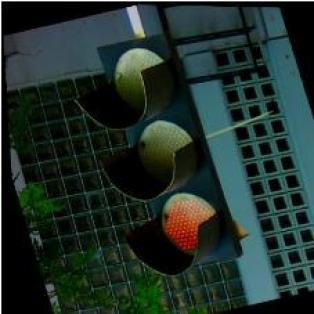Semaforo Rojo: (61, 23, 241, 284)
